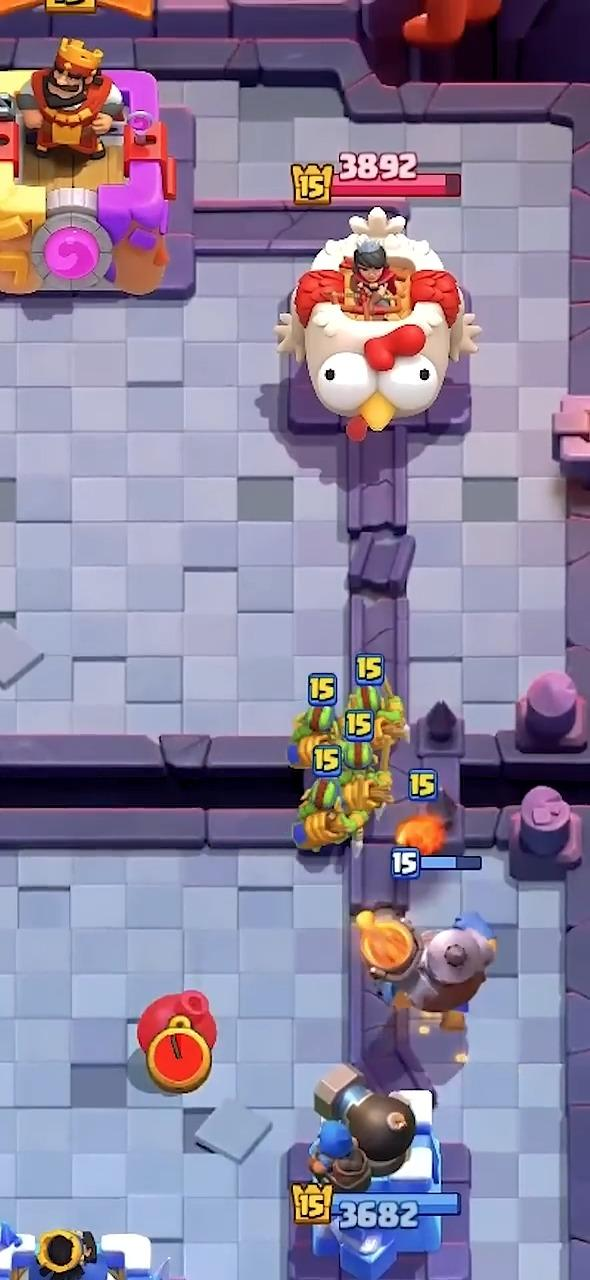fire spirit: (394, 812, 446, 858)
furnace: (357, 908, 495, 1028)
spear goblin: (349, 679, 409, 769), (342, 744, 392, 829), (293, 781, 342, 851), (289, 706, 336, 768)
